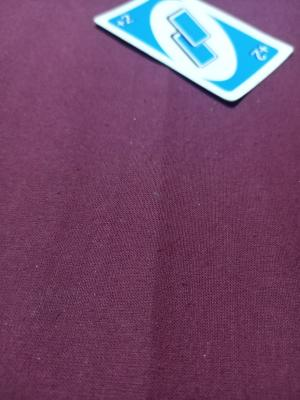blue: (124, 8, 222, 46)
